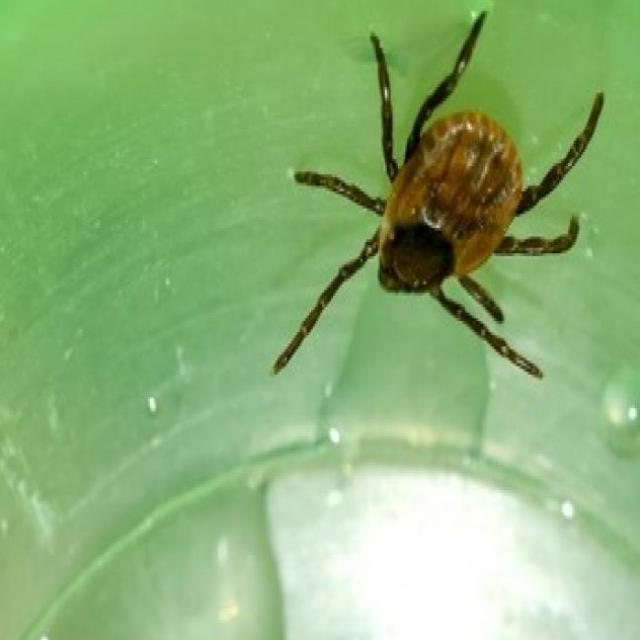Rhipicephalus Sanguineus-F: (274, 14, 605, 377)
